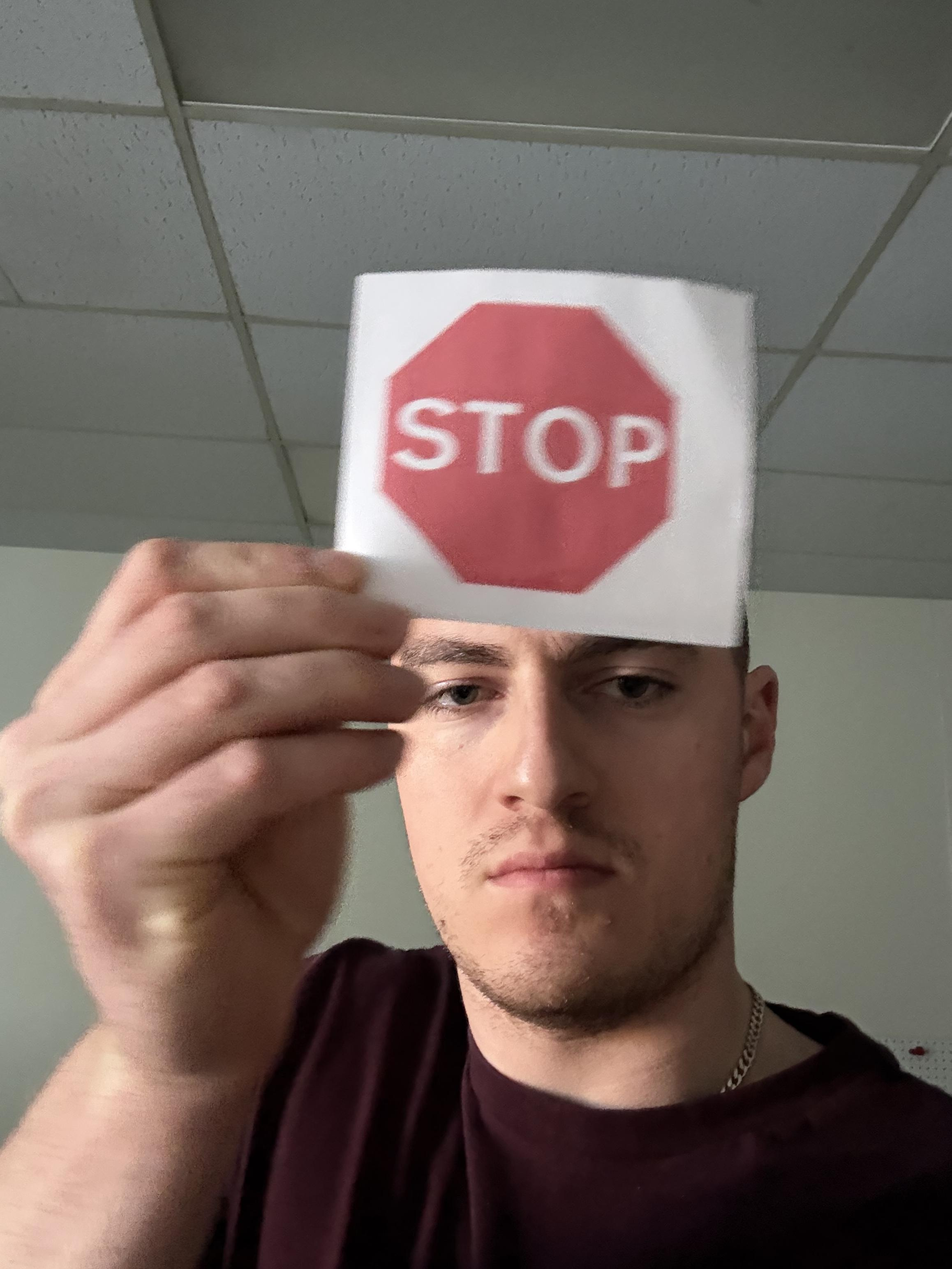Stop: (254, 370, 565, 868)
